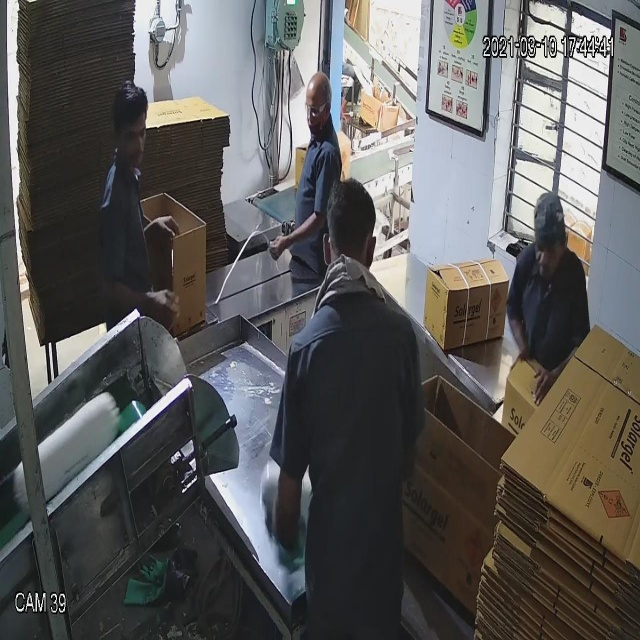Sin_guantes: (88, 253, 184, 345), (262, 209, 327, 276), (138, 204, 187, 260)
